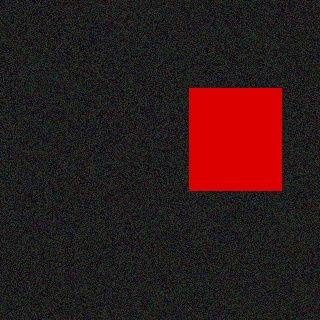red_barrel: (190, 89, 281, 190)
